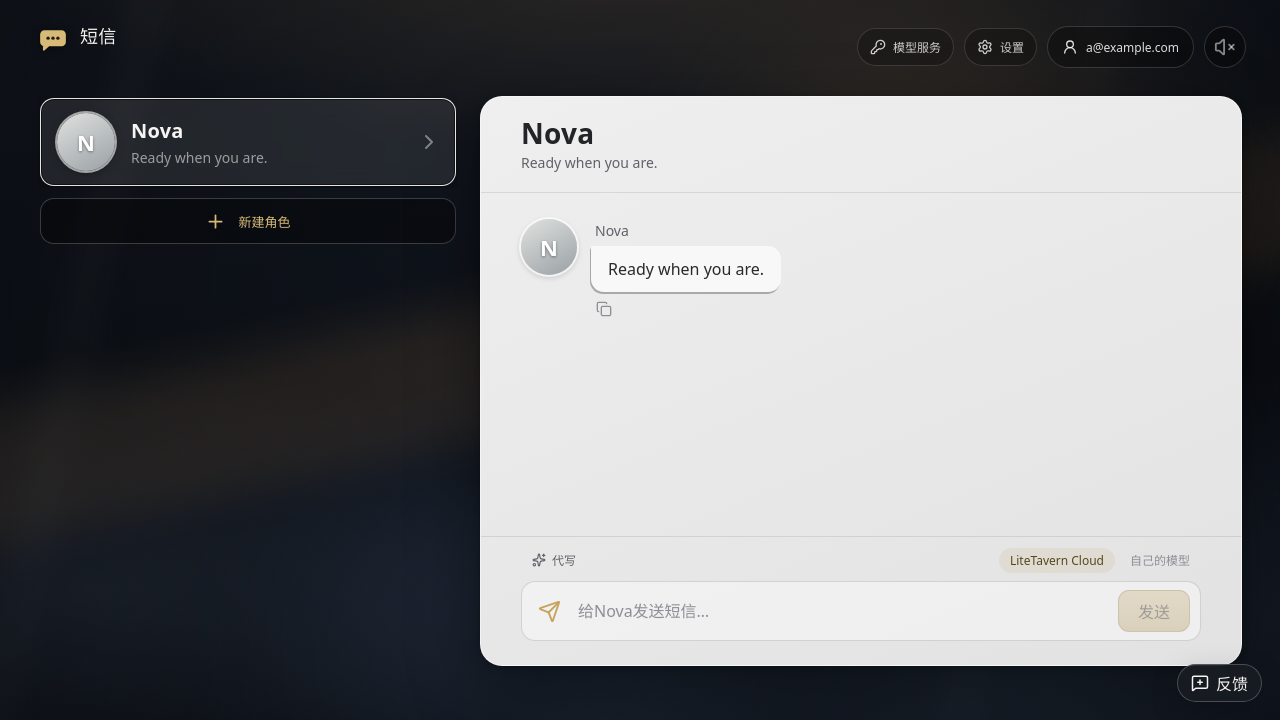
Test: reports an empty result rather than leaving the button looking stuck
Expected: the text box with placeholder "Nova" is shown, [576,597,1106,625]
Click the button "代写": click(554, 560) [521,547,587,573]
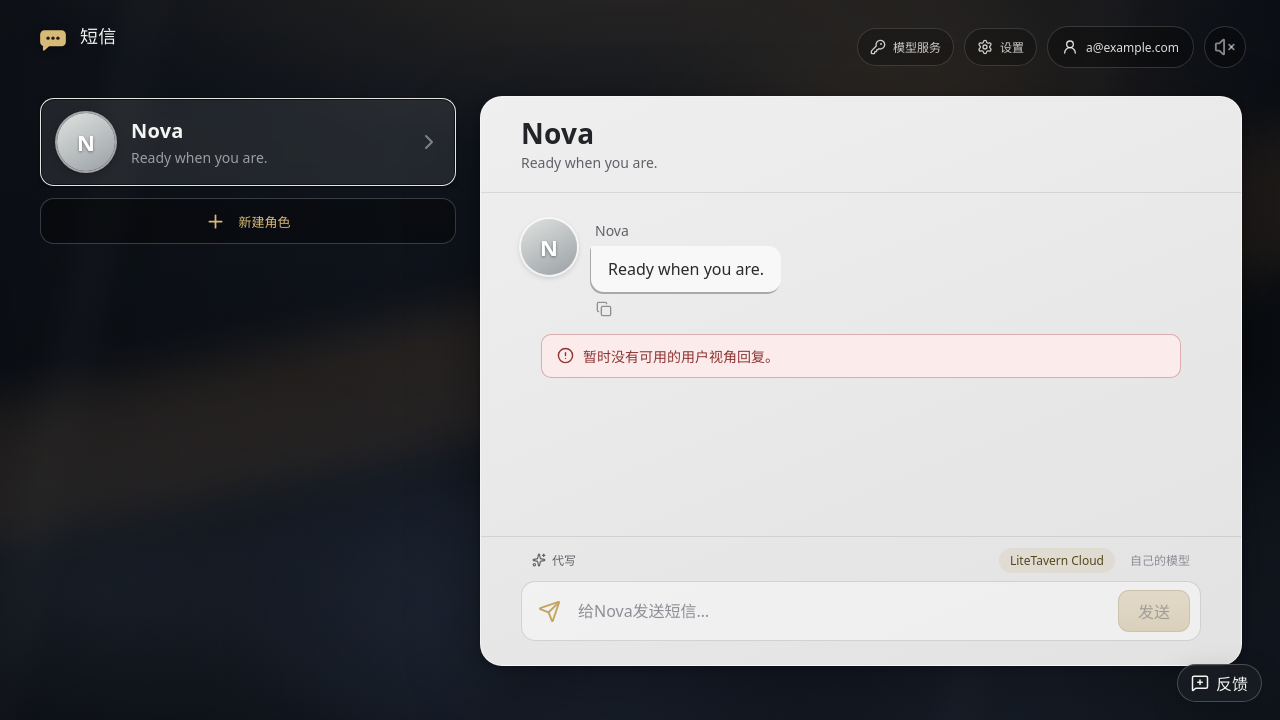
Expected: the text "暂时没有可用的用户视角回复。" is shown, [541,334,1181,378]
